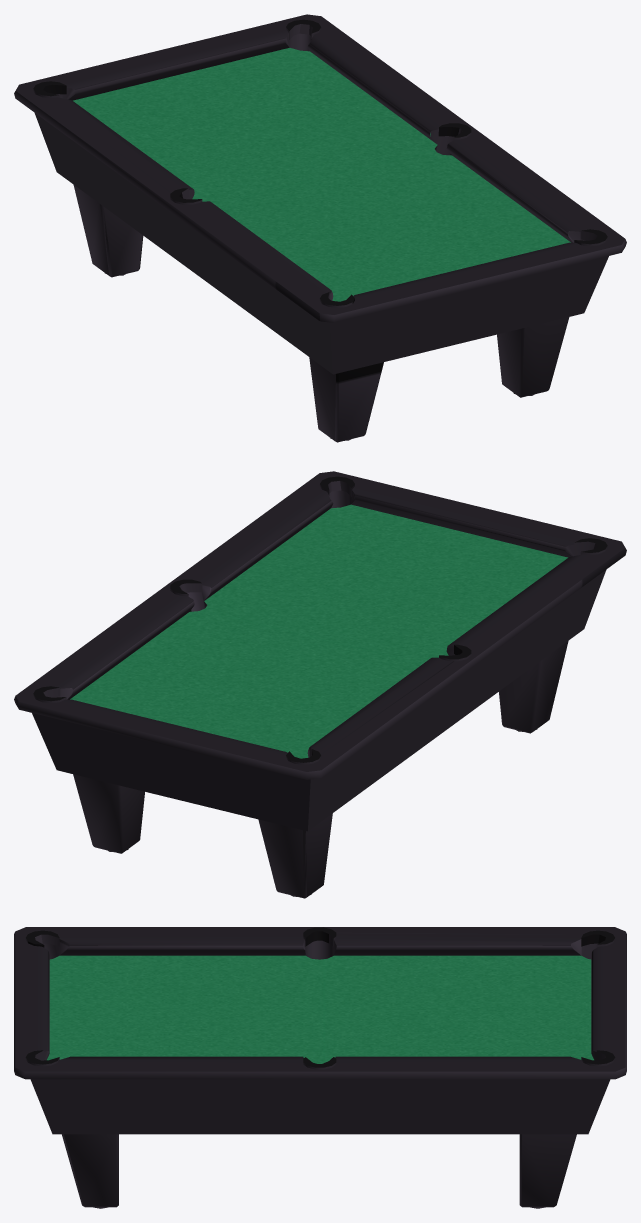
Rendered from PoolTable.glb.
3 views of the same model, one above another, from view 1: azimuth 30°, elevation 25°; view 2: azimuth 150°, elevation 25°; view 3: azimuth 270°, elevation 25° (orthographic). The views are drawn at different scales.
Parts seen in each view (by area): view 1: table; view 2: table; view 3: table.
Part boxes in pixels (box(x1,y1,x2,y2)): table: box(14, 14, 626, 442); table: box(14, 471, 626, 898); table: box(14, 927, 626, 1208).
Bounding box in the file's own units: 1.52 × 0.7945 × 2.72.
Materials: 1 (1 with a texture image).
